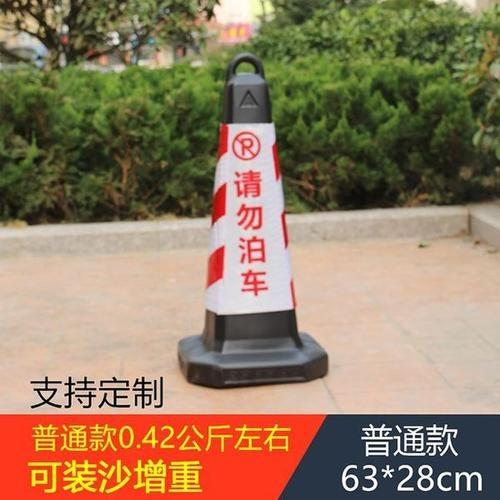cone_barrel: (176, 60, 328, 391)
